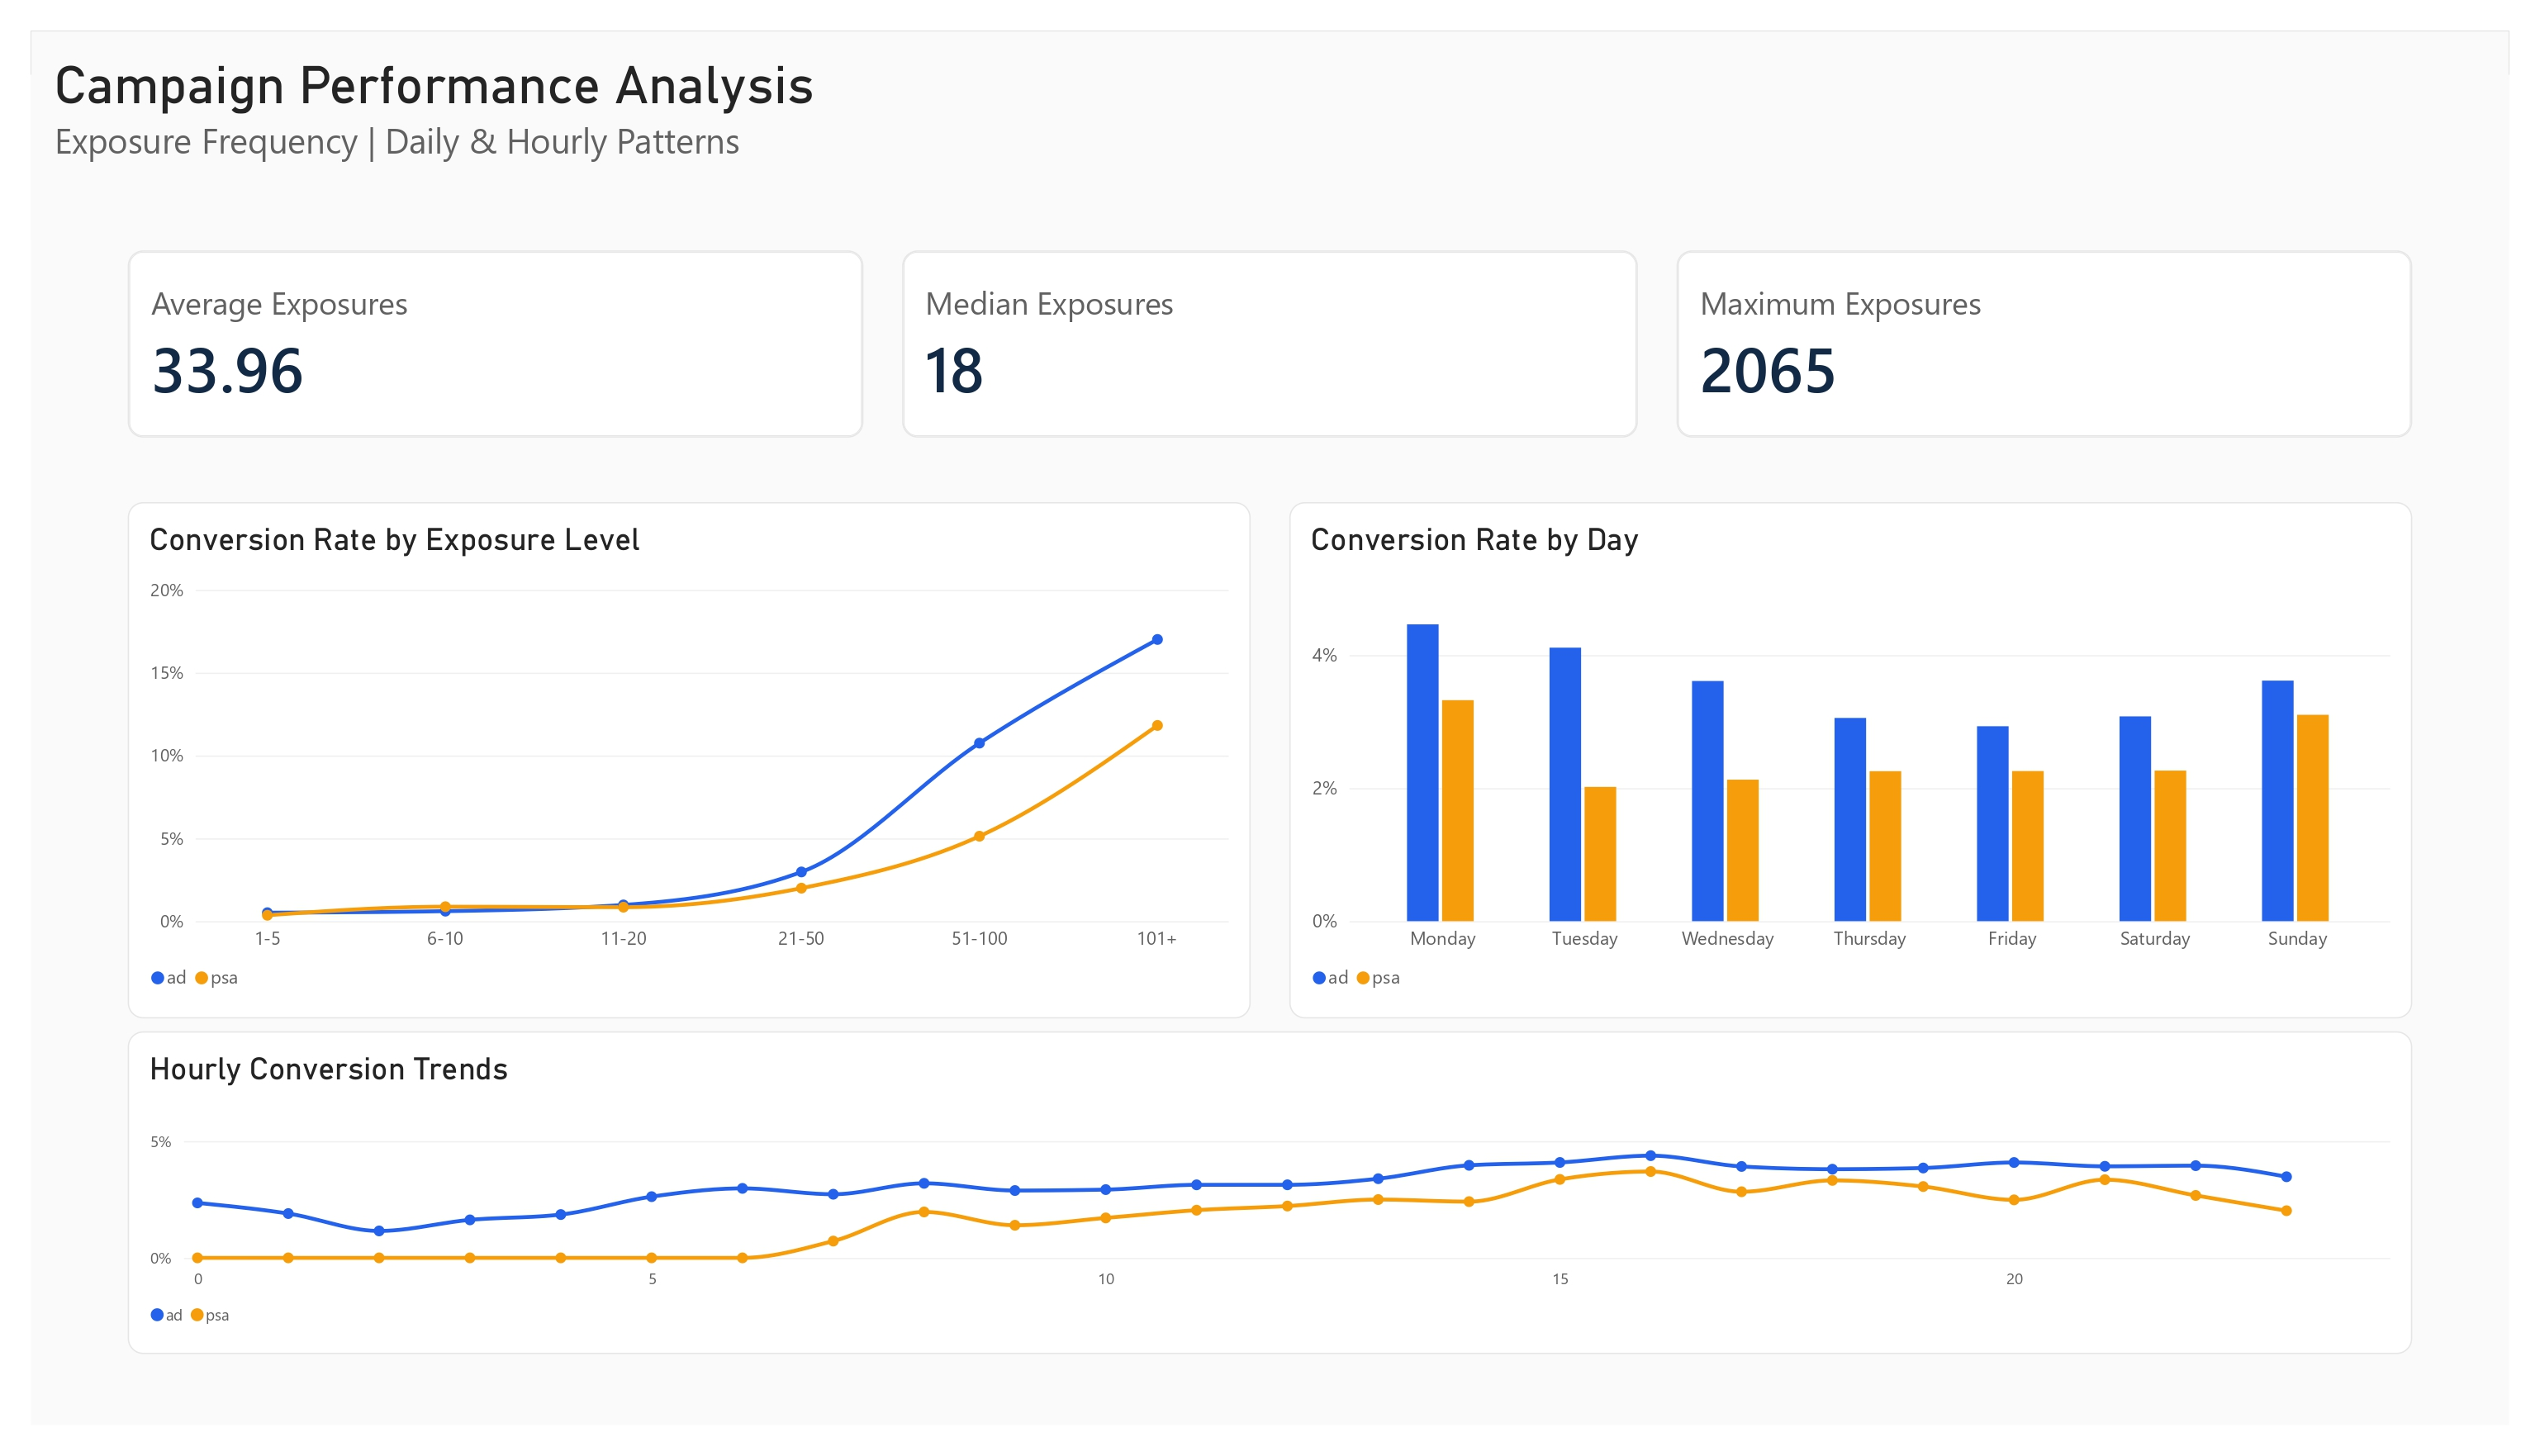

The dashboard page shown, as its layout file describes it:
{"tool":"powerbi","page":{"name":"Campaign Performance","canvas":[1920,1080],"ordinal":1},"visuals":[{"type":"cardVisual","fields":{"Data":["marketing_campaign.Average Exposures"]},"box":[75,170,570,145],"z":0},{"type":"cardVisual","fields":{"Data":["marketing_campaign.Median Exposures"]},"box":[675,170,570,145],"z":1000},{"type":"cardVisual","fields":{"Data":["marketing_campaign.Maximum Exposures"]},"box":[1275,170,570,145],"z":2000},{"type":"lineChart","title":"Conversion Rate by Exposure Level","fields":{"Category":["marketing_campaign.exposure_group"],"Series":["marketing_campaign.test_group"],"Y":["marketing_campaign.Conversion Rate"]},"box":[75,365,870,400],"z":3000},{"type":"textbox","title":"Campaign Performance Analysis","box":[17.5,17.5,1885,135],"z":4000},{"type":"clusteredColumnChart","title":"Conversion Rate by Day","fields":{"Category":["marketing_campaign.most_ads_day"],"Series":["marketing_campaign.test_group"],"Y":["marketing_campaign.Conversion Rate"]},"box":[975,365,870,400],"z":5000},{"type":"lineChart","title":"Hourly Conversion Trends","fields":{"Category":["marketing_campaign.most_ads_hour"],"Series":["marketing_campaign.test_group"],"Y":["marketing_campaign.Conversion Rate"]},"box":[75,775,1770,250],"z":6000}]}

Visuals, with their boxes on the page's 1920x1080 design canvas (x1, y1, x2, y2). These are canvas units, not pixel positions in the 2540x1456 screenshot, which may show the page scaled, cropped or inside an application window:
cardVisual - marketing_campaign.Average Exposures: {"x1": 75, "y1": 170, "x2": 645, "y2": 315}
cardVisual - marketing_campaign.Median Exposures: {"x1": 675, "y1": 170, "x2": 1245, "y2": 315}
cardVisual - marketing_campaign.Maximum Exposures: {"x1": 1275, "y1": 170, "x2": 1845, "y2": 315}
"Conversion Rate by Exposure Level" lineChart: {"x1": 75, "y1": 365, "x2": 945, "y2": 765}
"Campaign Performance Analysis" textbox: {"x1": 18, "y1": 18, "x2": 1902, "y2": 152}
"Conversion Rate by Day" clusteredColumnChart: {"x1": 975, "y1": 365, "x2": 1845, "y2": 765}
"Hourly Conversion Trends" lineChart: {"x1": 75, "y1": 775, "x2": 1845, "y2": 1025}
